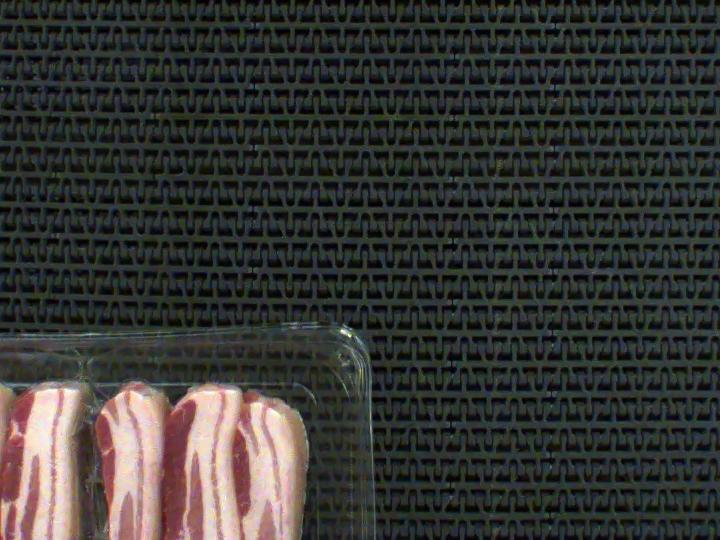packaging-error: (0, 346, 148, 540)
